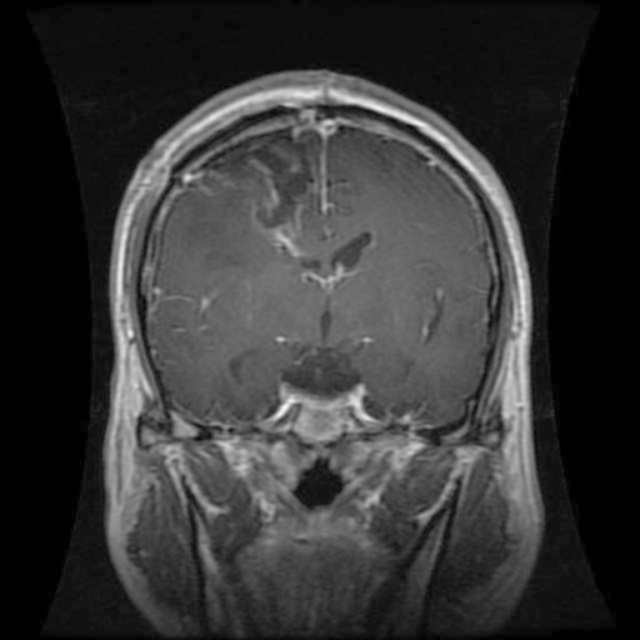pituitary tumor: (281, 376, 370, 444)
